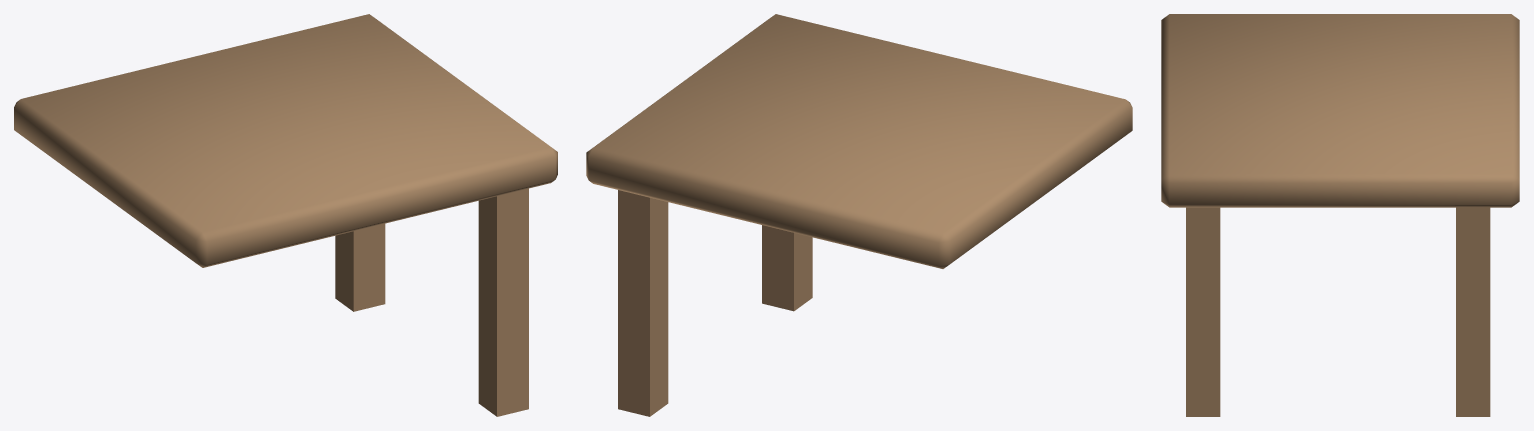
The model's file is table_right.glb.
3 views of the same model, side by side, from view 1: azimuth 30°, elevation 25°; view 2: azimuth 150°, elevation 25°; view 3: azimuth 270°, elevation 25° (orthographic). The views are drawn at different scales.
Visible parts, largest first — view 1: Cube.045; view 2: Cube.045; view 3: Cube.045.
Part boxes in pixels (<box>): Cube.045: <box>14,14,557,416</box>; Cube.045: <box>586,14,1132,416</box>; Cube.045: <box>1161,14,1519,416</box>.
Size of the model in its own units: 2.61 by 1.82 by 2.38.
